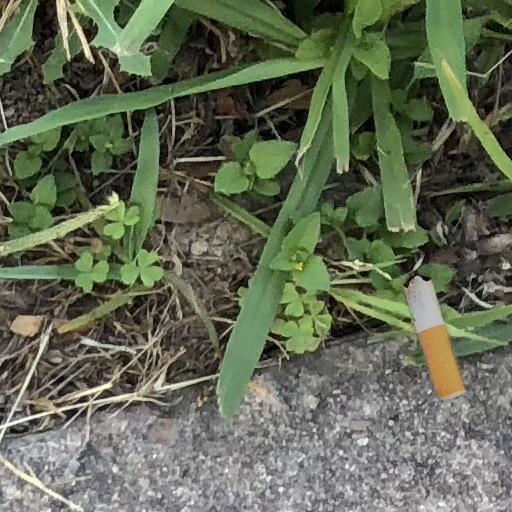smoke: (404, 274, 465, 399)
